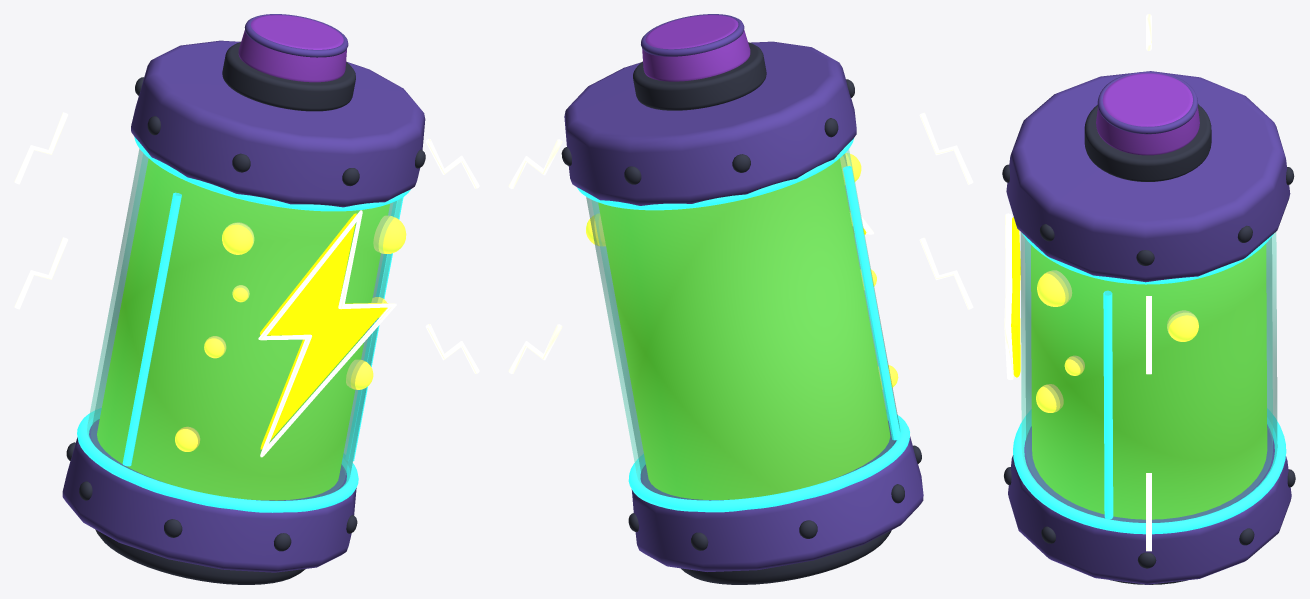
The model's file is turbo-battery.glb.
3 views of the same model, side by side, from view 1: azimuth 30°, elevation 25°; view 2: azimuth 150°, elevation 25°; view 3: azimuth 270°, elevation 25° (orthographic). The views are drawn at different scales.
Parts seen in each view (by area): view 1: Item_Battery_turquoise_glass, Item_Battery_lime_energy_cell, Item_Battery_violet_anodized_caps, Item_Battery_electric_cyan_seam, Item_Battery_dark_cap_seal, Item_Battery_lightning_gold, Item_Battery_purple_cap_inset, Item_Battery_charged_bubbles, Item_Battery_lightning_edge, FX_Battery_lightning_edge; view 2: Item_Battery_turquoise_glass, Item_Battery_lime_energy_cell, Item_Battery_violet_anodized_caps, Item_Battery_dark_cap_seal, Item_Battery_electric_cyan_seam, Item_Battery_purple_cap_inset, FX_Battery_lightning_edge, Item_Battery_charged_bubbles; view 3: Item_Battery_turquoise_glass, Item_Battery_violet_anodized_caps, Item_Battery_lime_energy_cell, Item_Battery_electric_cyan_seam, Item_Battery_purple_cap_inset, Item_Battery_dark_cap_seal, Item_Battery_charged_bubbles, Item_Battery_lightning_gold, Item_Battery_lightning_edge, FX_Battery_lightning_edge.
Part boxes in pixels (x1,y1,x2,y2): Item_Battery_turquoise_glass: [87, 149, 402, 500]; Item_Battery_lime_energy_cell: [97, 159, 389, 500]; Item_Battery_violet_anodized_caps: [62, 14, 425, 572]; Item_Battery_electric_cyan_seam: [77, 137, 410, 512]; Item_Battery_dark_cap_seal: [66, 42, 425, 584]; Item_Battery_lightning_gold: [260, 213, 387, 449]; Item_Battery_purple_cap_inset: [238, 15, 346, 82]; Item_Battery_charged_bubbles: [175, 215, 406, 451]; Item_Battery_lightning_edge: [258, 210, 396, 457]; FX_Battery_lightning_edge: [14, 112, 479, 373]; Item_Battery_turquoise_glass: [586, 149, 899, 500]; Item_Battery_lime_energy_cell: [598, 158, 890, 499]; Item_Battery_violet_anodized_caps: [564, 14, 923, 571]; Item_Battery_dark_cap_seal: [561, 42, 921, 584]; Item_Battery_electric_cyan_seam: [577, 138, 909, 512]; Item_Battery_purple_cap_inset: [642, 15, 750, 81]; FX_Battery_lightning_edge: [508, 112, 973, 373]; Item_Battery_charged_bubbles: [586, 153, 898, 389]; Item_Battery_turquoise_glass: [1020, 232, 1277, 522]; Item_Battery_violet_anodized_caps: [1006, 71, 1291, 584]; Item_Battery_lime_energy_cell: [1031, 244, 1267, 519]; Item_Battery_electric_cyan_seam: [1013, 232, 1286, 534]; Item_Battery_purple_cap_inset: [1096, 73, 1199, 155]; Item_Battery_dark_cap_seal: [1002, 104, 1295, 584]; Item_Battery_charged_bubbles: [1036, 270, 1198, 412]; Item_Battery_lightning_gold: [1011, 217, 1020, 377]; Item_Battery_lightning_edge: [1004, 213, 1013, 379]; FX_Battery_lightning_edge: [1146, 14, 1151, 551].
Size of the model in its own units: 1.05 by 1.12 by 0.6009.
